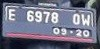plate: (2, 3, 97, 43)
